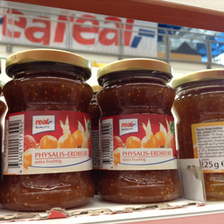jam: (3, 50, 95, 211), (96, 58, 181, 205), (173, 68, 224, 200)
